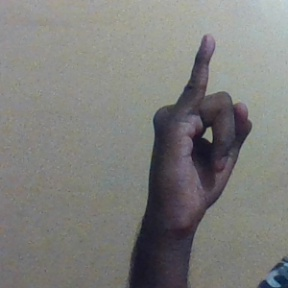I: (141, 31, 256, 227)
